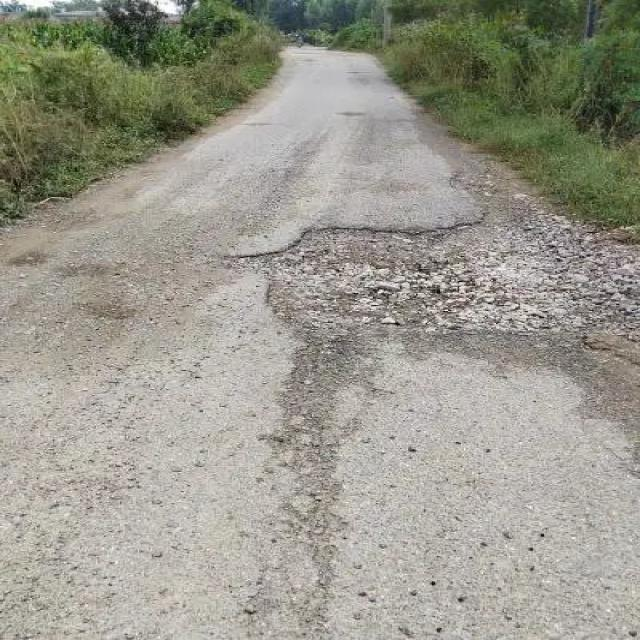Pothole: (248, 218, 613, 346)
